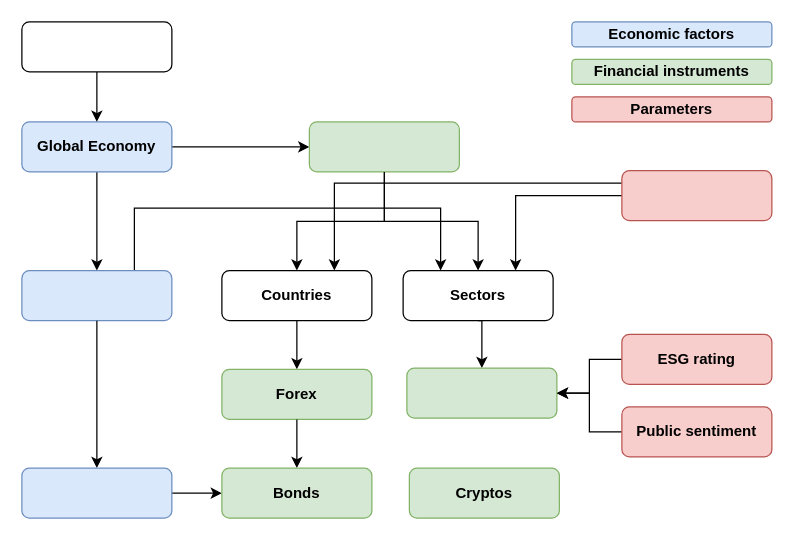
The diagram is 794 pixels wide and 540 high, and some of its shapes have lost their labels. The shapes that lost their labels are listed below. From the top down, each one's centre as x and y in pixels, then its label:
At point 96,46: "Trading volume".
At point 383,146: "Commodities".
At point 696,195: "Politics".
At point 96,295: "Inflation".
At point 481,392: "Stocks".
At point 96,492: "Global interest rate".
